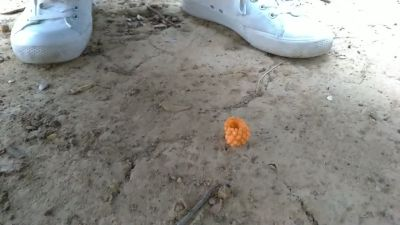eggs: (226, 115, 253, 150)
